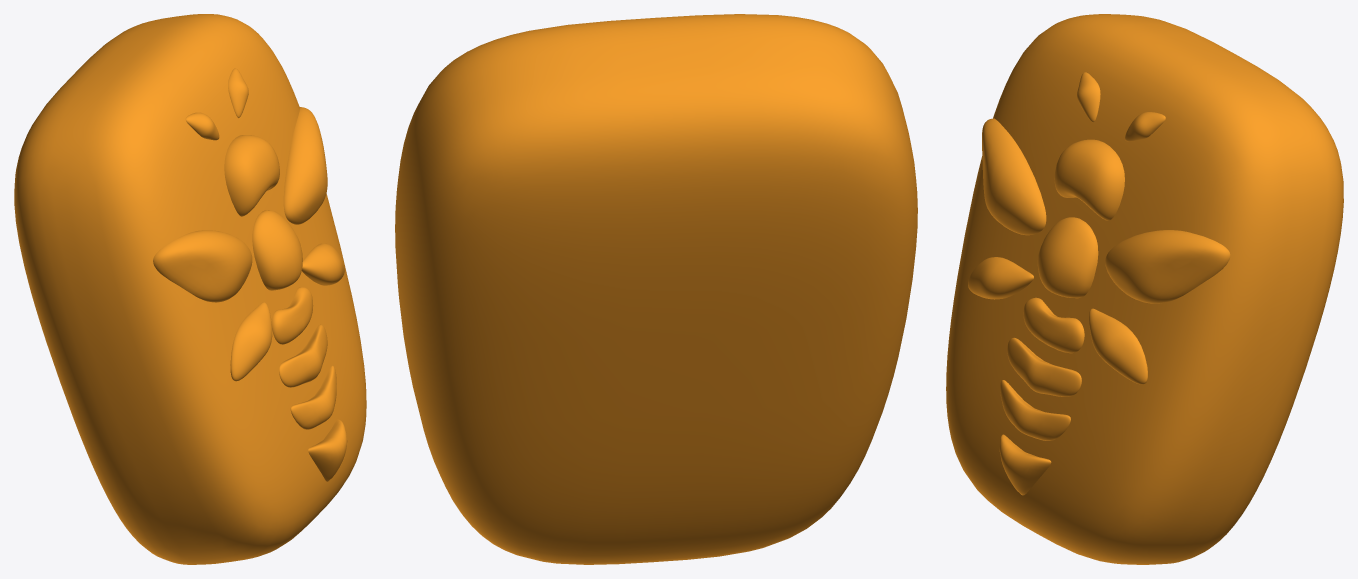
File: abeille.glb
3 views of the same model, side by side, from view 1: azimuth 30°, elevation 25°; view 2: azimuth 150°, elevation 25°; view 3: azimuth 270°, elevation 25° (orthographic). The views are drawn at different scales.
Visible parts, largest first — view 1: Bonbon Super abeille_.001; view 2: Bonbon Super abeille_.001; view 3: Bonbon Super abeille_.001.
Part boxes in pixels (left/top/right/bottom): Bonbon Super abeille_.001: left=14, top=14, right=366, bottom=564; Bonbon Super abeille_.001: left=395, top=14, right=917, bottom=564; Bonbon Super abeille_.001: left=946, top=14, right=1343, bottom=564.
Bounding box in the file's own units: 0.0505 × 0.0623 × 0.0478.
